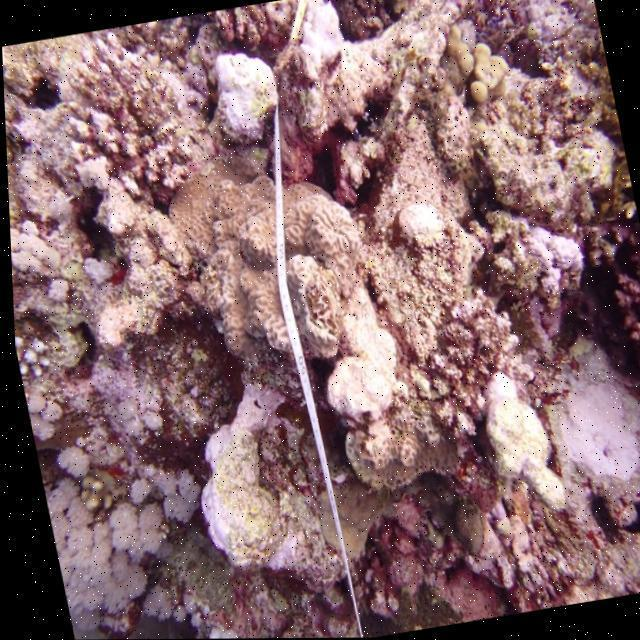Bleached Coral: (32, 434, 208, 640), (177, 402, 304, 590), (534, 357, 640, 516), (308, 286, 412, 442), (464, 366, 564, 524), (50, 138, 173, 238), (11, 300, 78, 444), (429, 20, 521, 120), (518, 207, 596, 309), (205, 48, 288, 142), (506, 0, 602, 70), (381, 184, 460, 266)
